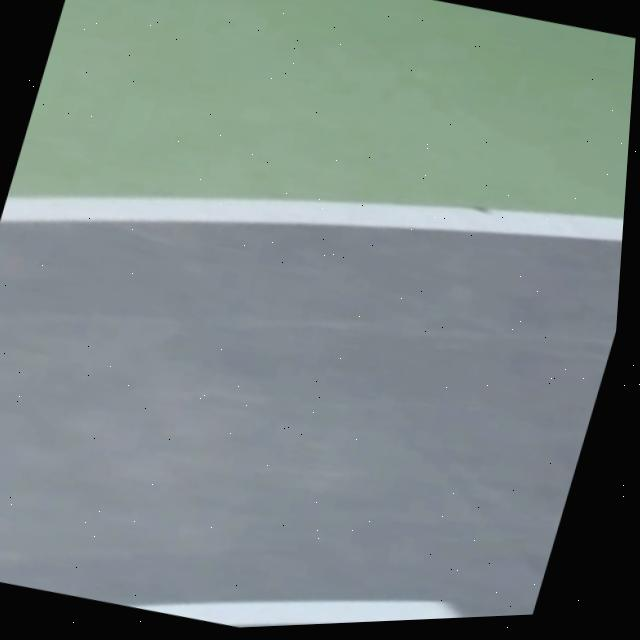center: (121, 599, 463, 626)
right: (0, 197, 624, 241)
